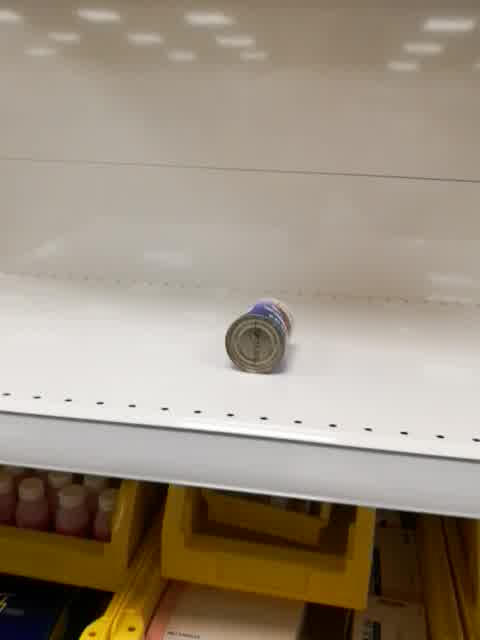sardine: (224, 295, 294, 374)
